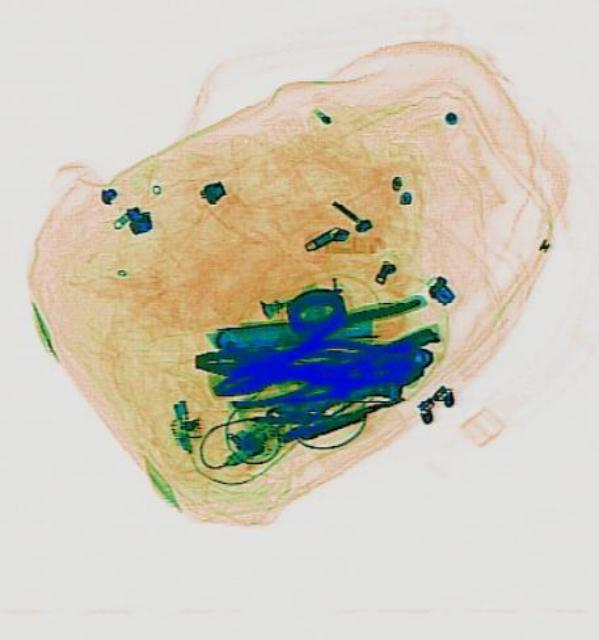Pliers: (200, 278, 441, 422)
